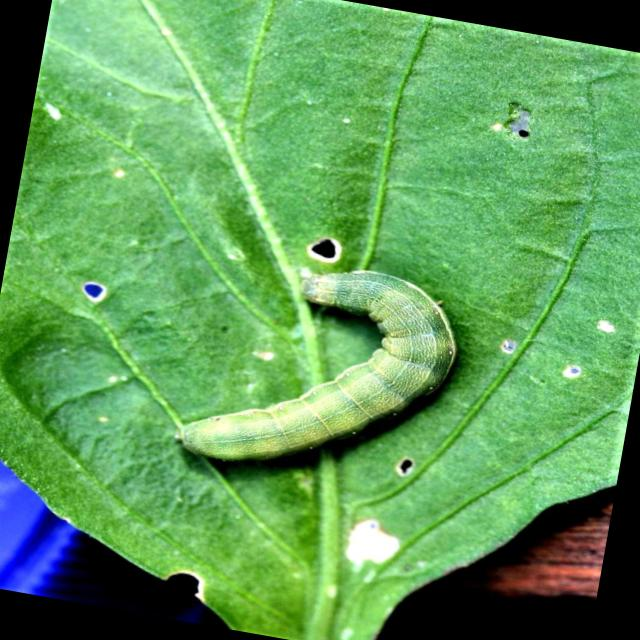Armyworm: (142, 232, 482, 515)
Armyworm_damage: (152, 541, 241, 623), (470, 80, 557, 162), (357, 432, 455, 503), (69, 252, 148, 321), (297, 225, 354, 269)
